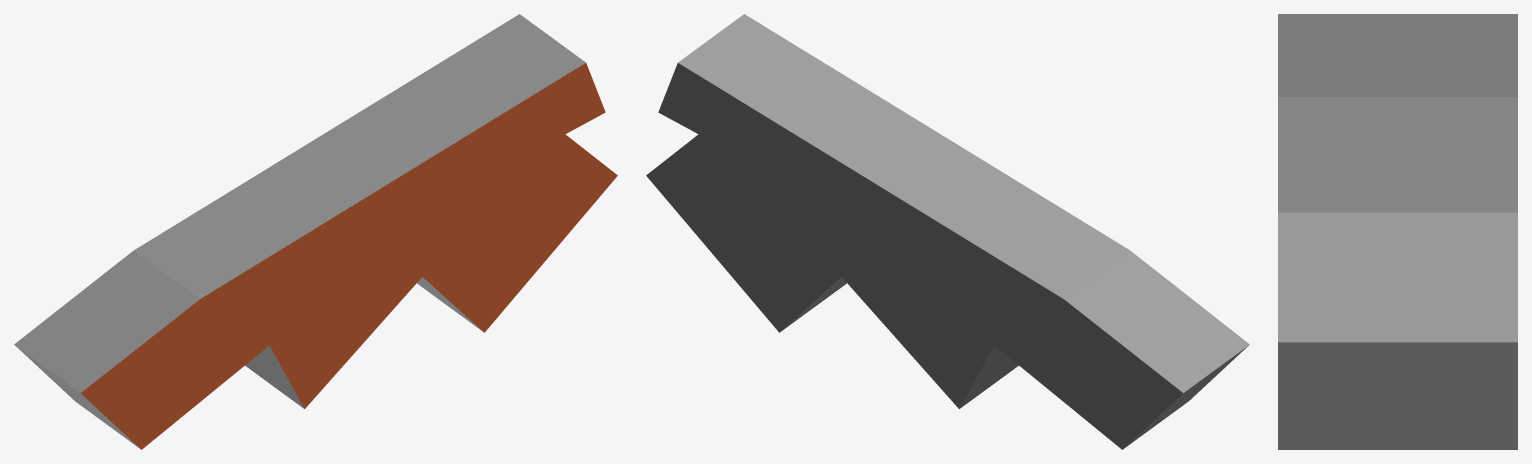
The model's file is construction_2123_assumed_A_Casa_h6m.obj.
3 renders of one model, left to right at view 1: azimuth 30°, elevation 25°; view 2: azimuth 150°, elevation 25°; view 3: azimuth 270°, elevation 25°, orthographic. The views are drawn at different scales.
Visible parts, largest first — view 1: construction_2123_assumed_A_Casa; view 2: construction_2123_assumed_A_Casa; view 3: construction_2123_assumed_A_Casa.
Part boxes in pixels (x1,y1,x2,y2): construction_2123_assumed_A_Casa: [14, 14, 617, 449]; construction_2123_assumed_A_Casa: [646, 14, 1249, 449]; construction_2123_assumed_A_Casa: [1278, 14, 1517, 449].
Bounding box in the file's own units: 27.98 × 13.87 × 6.
